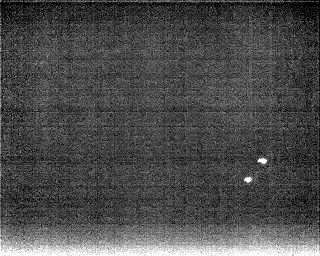BIRD: (242, 174, 254, 186)
